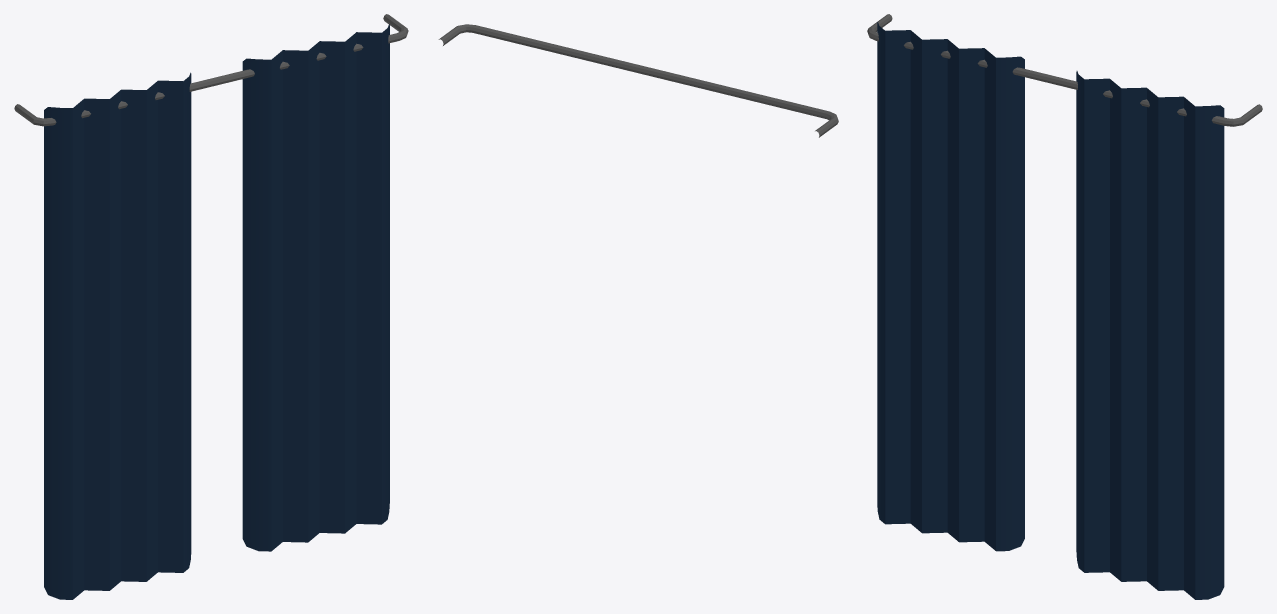
The model's file is q-curtains-double.glb.
3 renders of one model, left to right at view 1: azimuth 30°, elevation 25°; view 2: azimuth 150°, elevation 25°; view 3: azimuth 330°, elevation 25°, orthographic.
Parts seen in each view (by area): view 1: Curtains_Double; view 2: Curtains_Double; view 3: Curtains_Double.
Part boxes in pixels (x1,y1,x2,y2): Curtains_Double: (14, 14, 408, 599); Curtains_Double: (438, 24, 838, 137); Curtains_Double: (867, 14, 1262, 599).
Bounding box in the file's own units: 3.47 × 4.34 × 0.4765.
